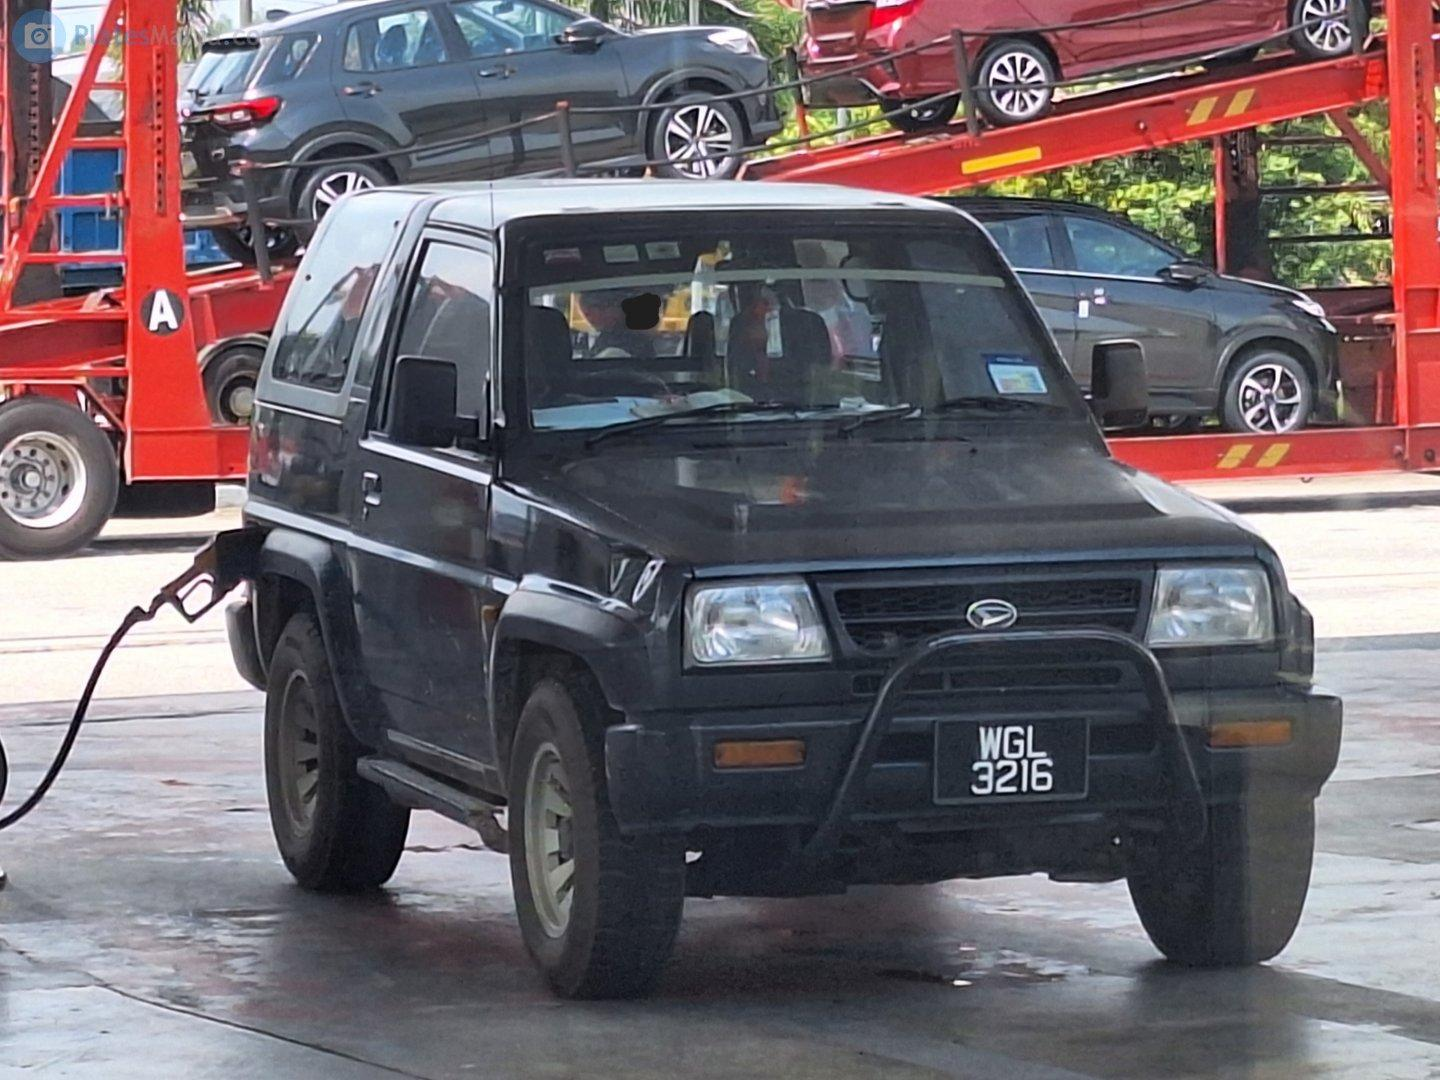License Plate: (940, 720, 1088, 801)
